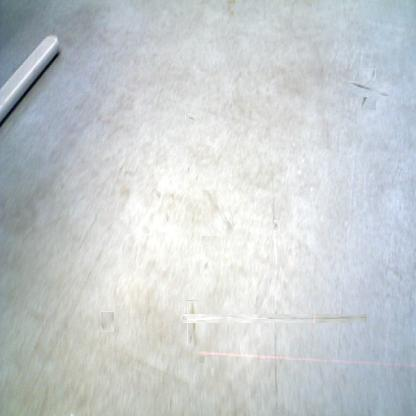liquid: (227, 270, 324, 366), (226, 1, 236, 15)
mark: (202, 190, 234, 236), (353, 74, 383, 104), (187, 300, 198, 346), (100, 311, 114, 332), (187, 114, 195, 123), (274, 220, 278, 230)
